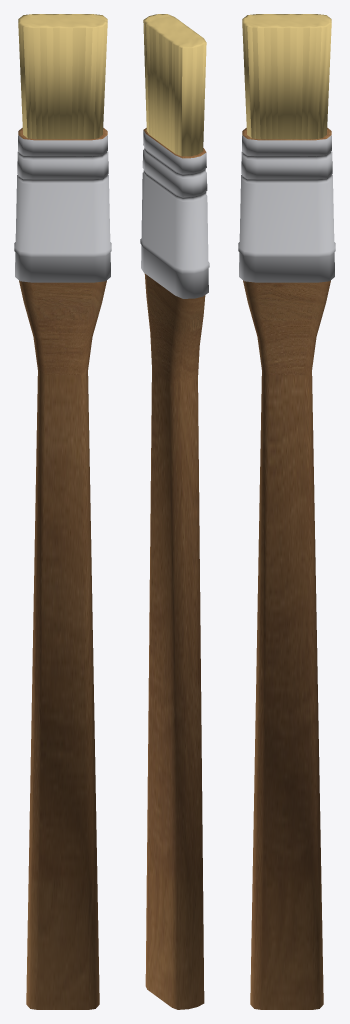
File: brocha.fbx
3 views of the same model, side by side, from view 1: azimuth 90°, elevation 25°; view 2: azimuth 210°, elevation 25°; view 3: azimuth 270°, elevation 25° (orthographic).
Visible parts, largest first — view 1: Cube; view 2: Cube; view 3: Cube.
Boxes of the visible parts, x1,y1,x2,y2 form: Cube: [14, 14, 111, 1009]; Cube: [140, 14, 209, 1009]; Cube: [238, 14, 335, 1009].
Size of the model in its own units: 60.64 by 1704 by 153.
